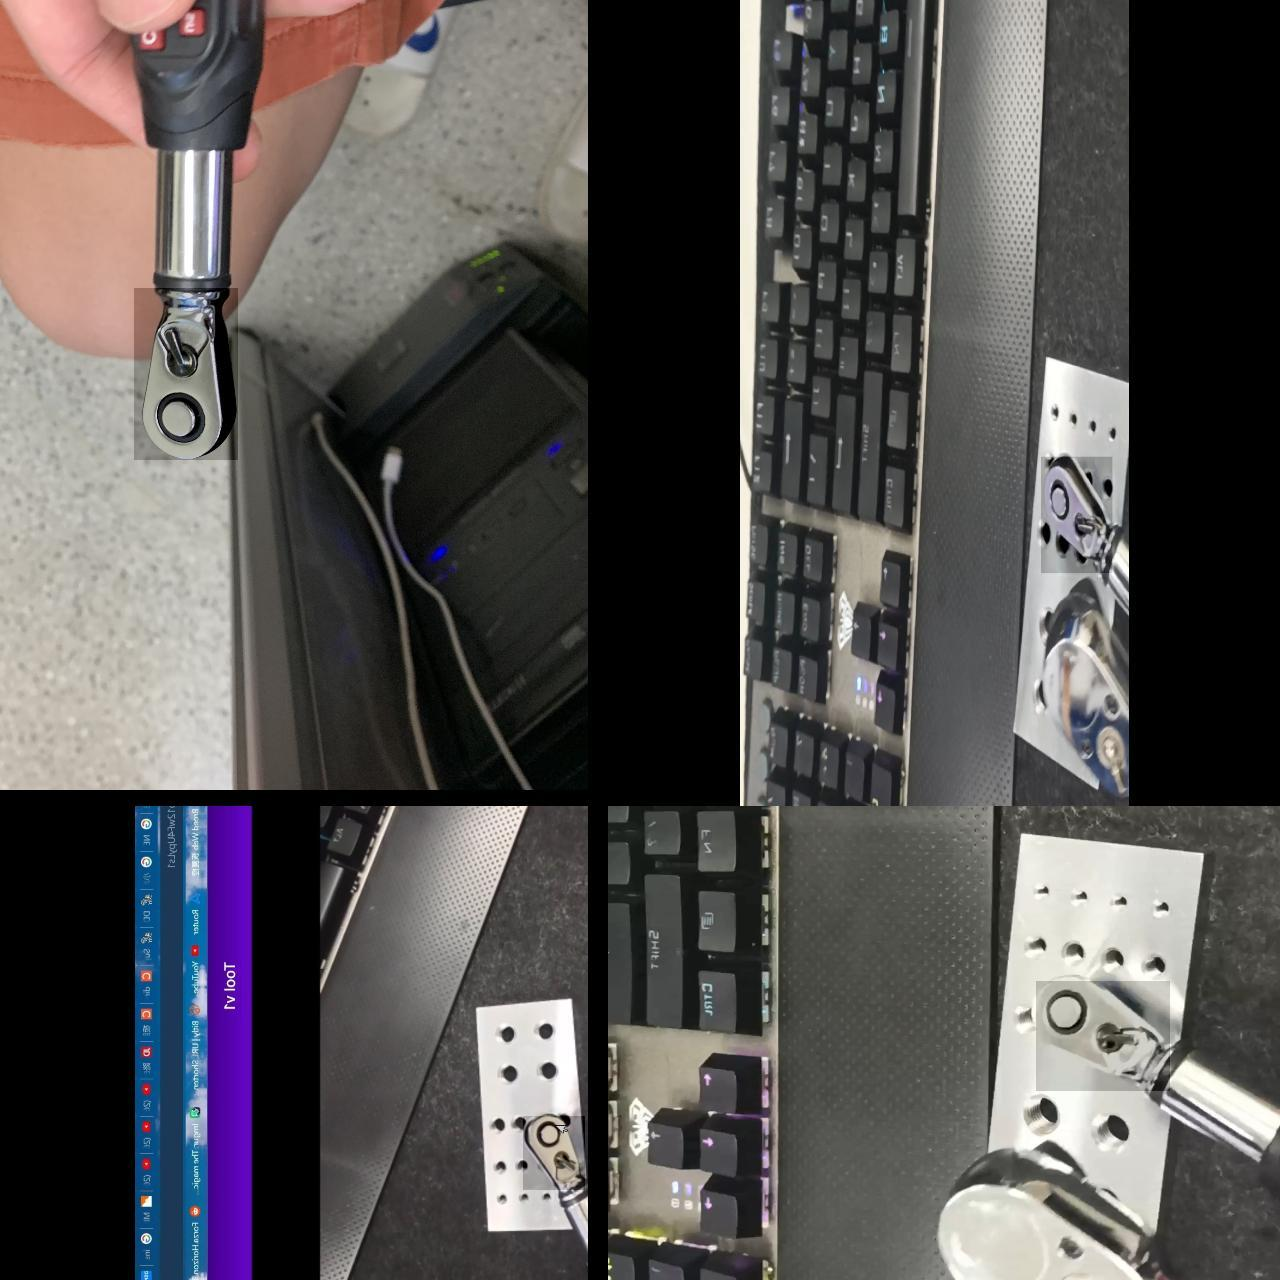Tool: (942, 1152, 1257, 1280), (1040, 581, 1128, 806), (132, 288, 237, 459), (1035, 981, 1169, 1091), (1040, 456, 1112, 573), (522, 1116, 584, 1190)
hole: (125, 379, 225, 467), (1083, 1095, 1137, 1152), (1036, 979, 1089, 1034), (1019, 1087, 1065, 1141), (1089, 1008, 1138, 1055), (533, 1118, 564, 1150), (1141, 942, 1170, 974), (1012, 1000, 1036, 1033), (1020, 930, 1048, 958), (1097, 940, 1124, 969), (536, 1056, 565, 1082), (1062, 933, 1088, 962), (493, 1063, 520, 1089), (491, 1021, 518, 1047), (535, 1017, 560, 1044), (1036, 518, 1056, 551), (1050, 524, 1067, 558), (1070, 878, 1094, 901), (1151, 887, 1173, 911), (485, 1112, 508, 1136), (1046, 402, 1067, 427), (512, 1112, 535, 1135), (1109, 881, 1131, 904), (1028, 877, 1051, 898), (1099, 468, 1116, 497), (490, 1158, 509, 1178), (513, 1158, 533, 1177), (1075, 545, 1091, 567), (492, 1189, 510, 1206), (1085, 410, 1096, 440), (1103, 427, 1118, 445), (517, 1189, 533, 1205), (538, 1192, 553, 1208), (1064, 409, 1075, 431)
